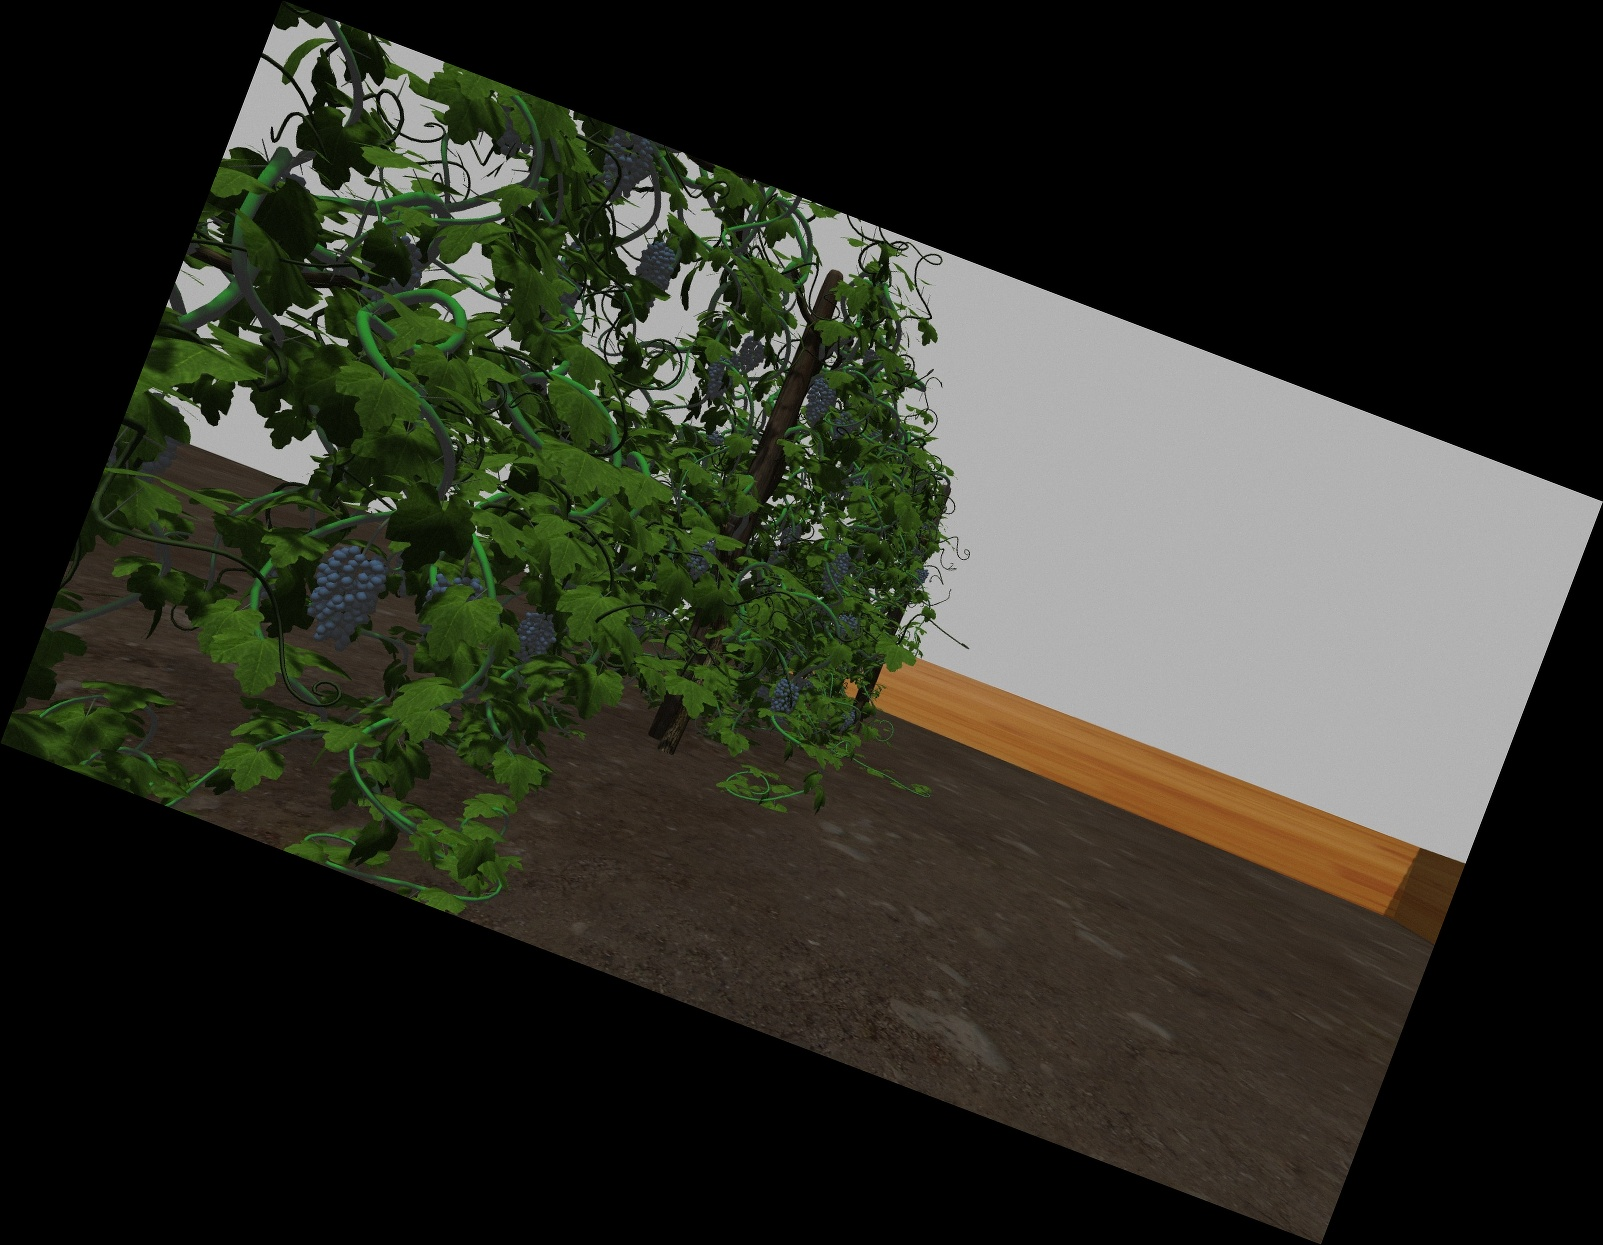grape: (308, 546, 377, 653), (599, 141, 651, 202), (638, 238, 674, 294), (515, 614, 554, 666), (805, 376, 831, 424), (707, 353, 731, 401), (769, 678, 798, 716), (824, 549, 848, 592), (687, 542, 710, 580), (739, 337, 764, 371), (834, 412, 855, 438), (913, 567, 928, 584)
